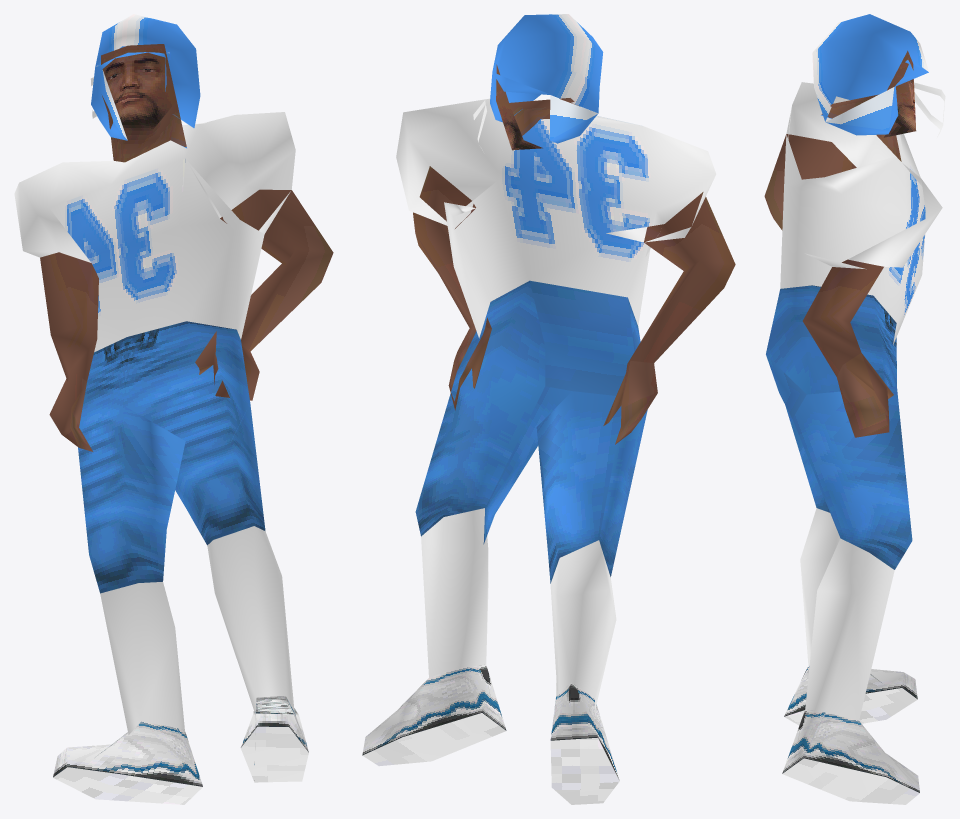
Rendered from ps2_save-icons_maddennfl2002roster.glb.
3 renders of one model, left to right at view 1: azimuth 30°, elevation 25°; view 2: azimuth 150°, elevation 25°; view 3: azimuth 270°, elevation 25°, orthographic. The views are drawn at different scales.
Visible parts, largest first — view 1: view.ico; view 2: view.ico; view 3: view.ico.
Part boxes in pixels (x1,y1,x2,y2): view.ico: (14,14,333,804); view.ico: (362,14,735,804); view.ico: (764,14,945,804).
Size of the model in its own units: 1.91 by 4.64 by 1.08.
1 material, 1 textured.
